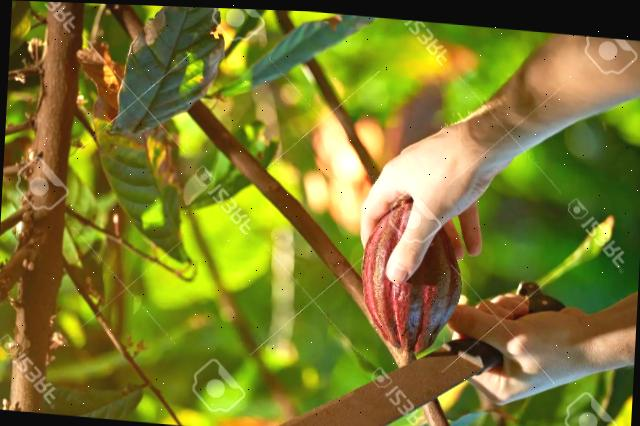long knife: (188, 232, 562, 426)
